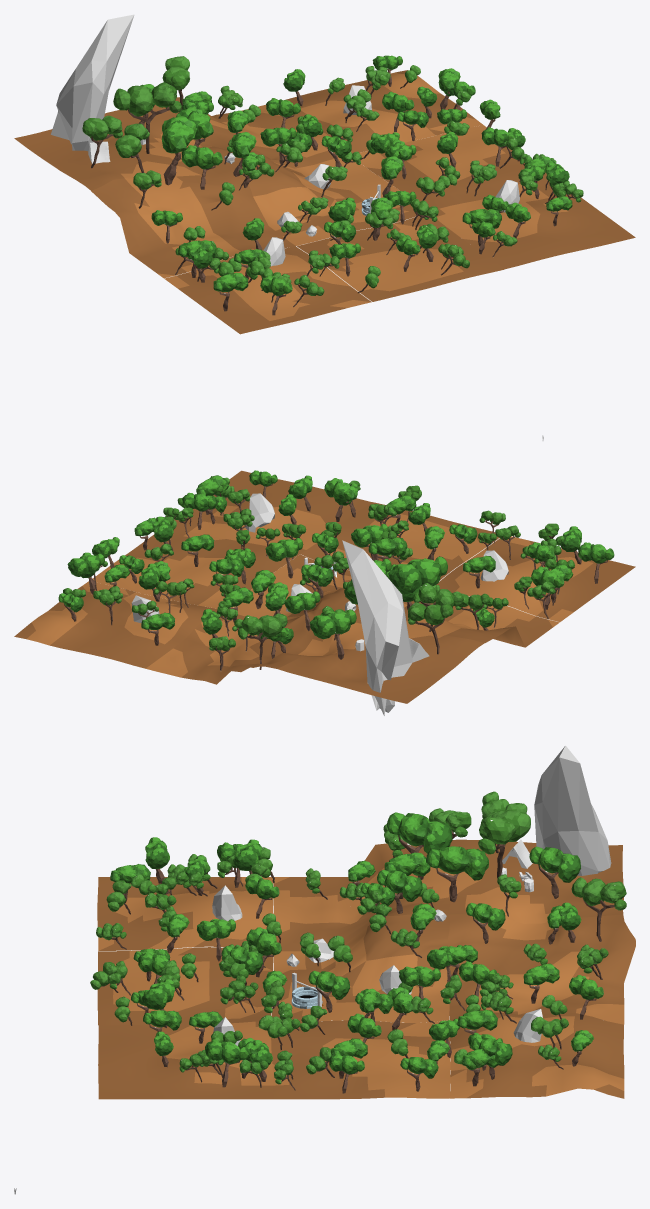
Rendered from nature_pack_bigger.fbx.
3 renders of one model, top to bottom at view 1: azimuth 30°, elevation 25°; view 2: azimuth 150°, elevation 25°; view 3: azimuth 270°, elevation 25°, orthographic. The views are drawn at different scales.
Parts seen in each view (by area): view 1: Plane.004, Boulder3.002, Tree 1.003, Tree2.003, Tree 1.001, Tree 1.004, Tree2.006, Tree 1.008, Tree2.005, Tree2.002 - copy.036, Tree2.002 - copy.003, Tree2.002 - copy.040 (+1 smaller); view 2: Plane.004, Boulder3.002, Tree2.003, Tree2.001, Tree 1.008, Tree 1.001, Tree 1.004, Tree2.002, Boulder3.004, Tree2.002 - copy.010, Tree2.002 - copy.036, Tree2.002 - copy.016 (+32 smaller); view 3: Plane.004, Boulder3.002, Tree 1.003, Tree2.003, Tree2.005, Tree 1.008, Tree2.001, Tree2.004, Tree2.002, Tree2.002 - copy.017, Tree2.002 - copy.016, Tree2.006 (+18 smaller).
Part boxes in pixels (box(x1,y1,x2,y2)): Plane.004: box(14, 70, 635, 334); Boulder3.002: box(51, 14, 134, 151); Tree 1.003: box(113, 82, 181, 153); Tree2.003: box(161, 116, 197, 185); Tree 1.001: box(82, 115, 122, 168); Tree 1.004: box(115, 123, 149, 172); Tree2.006: box(181, 145, 222, 189); Tree 1.008: box(162, 56, 189, 111); Tree2.005: box(175, 107, 213, 147); Tree2.002 - copy.036: box(213, 272, 248, 311); Tree2.002 - copy.003: box(462, 209, 501, 246); Tree2.002 - copy.040: box(260, 127, 296, 165); Plane.004: box(14, 470, 635, 703); Boulder3.002: box(342, 540, 412, 715); Tree2.003: box(388, 556, 447, 606); Tree2.001: box(309, 609, 356, 659); Tree 1.008: box(237, 613, 287, 669); Tree 1.001: box(408, 602, 453, 654); Tree 1.004: box(413, 583, 463, 631); Tree2.002: box(265, 538, 303, 578); Boulder3.004: box(245, 493, 274, 532); Tree2.002 - copy.010: box(67, 553, 104, 594); Tree2.002 - copy.036: box(578, 542, 614, 583); Tree2.002 - copy.016: box(284, 591, 320, 630); Plane.004: box(97, 839, 635, 1099); Boulder3.002: box(534, 745, 611, 875); Tree 1.003: box(478, 803, 530, 878); Tree2.003: box(387, 812, 452, 879); Tree2.005: box(426, 846, 488, 902); Tree 1.008: box(571, 877, 626, 941); Tree2.001: box(529, 846, 580, 898); Tree2.004: box(377, 869, 422, 913); Tree2.002: box(308, 970, 349, 1012); Tree2.002 - copy.017: box(205, 1039, 248, 1087); Tree2.002 - copy.016: box(466, 902, 505, 943); Tree2.006: box(384, 852, 430, 899).
Size of the model in its own units: 41992 by 29429 by 48726.
